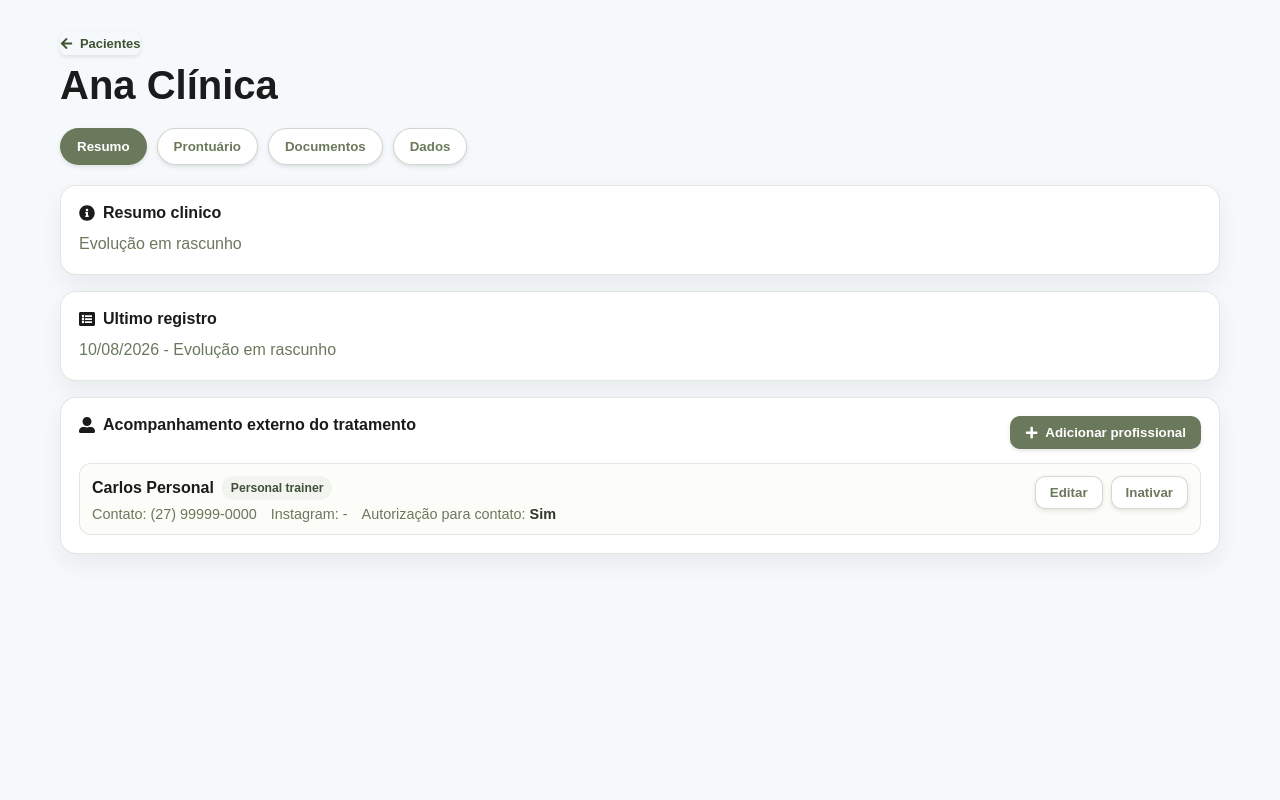
Test: PatientDetails clinical write controls permission matrix › edit + write + finalize preserves signature and addendum with eligible identity
Expected: the heading "Ana Clínica" is shown, [60,63,278,108]
Click the button "Prontuário": (207, 146) [157,128,258,165]
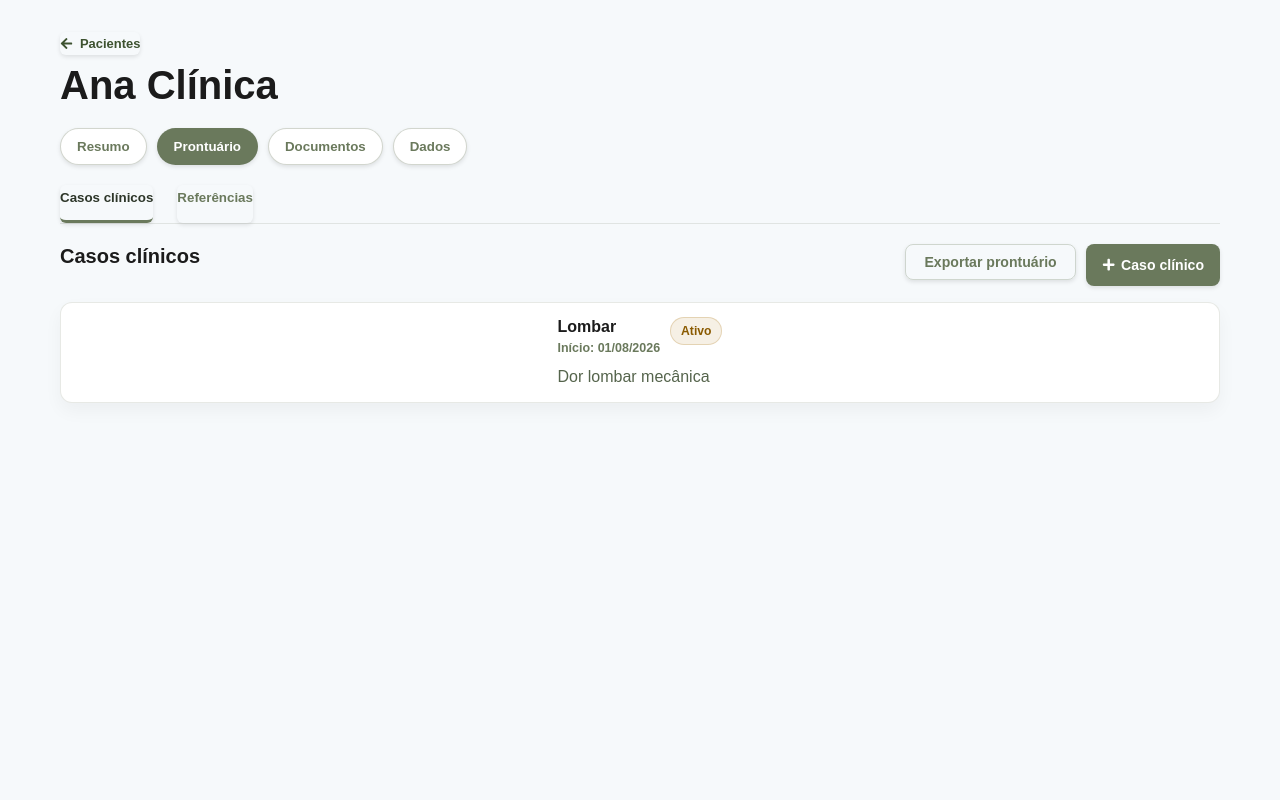
Click the button "Lombar Início: 01/08/2026 Ativo Dor lombar mecânica": (640, 353) [60,302,1220,403]
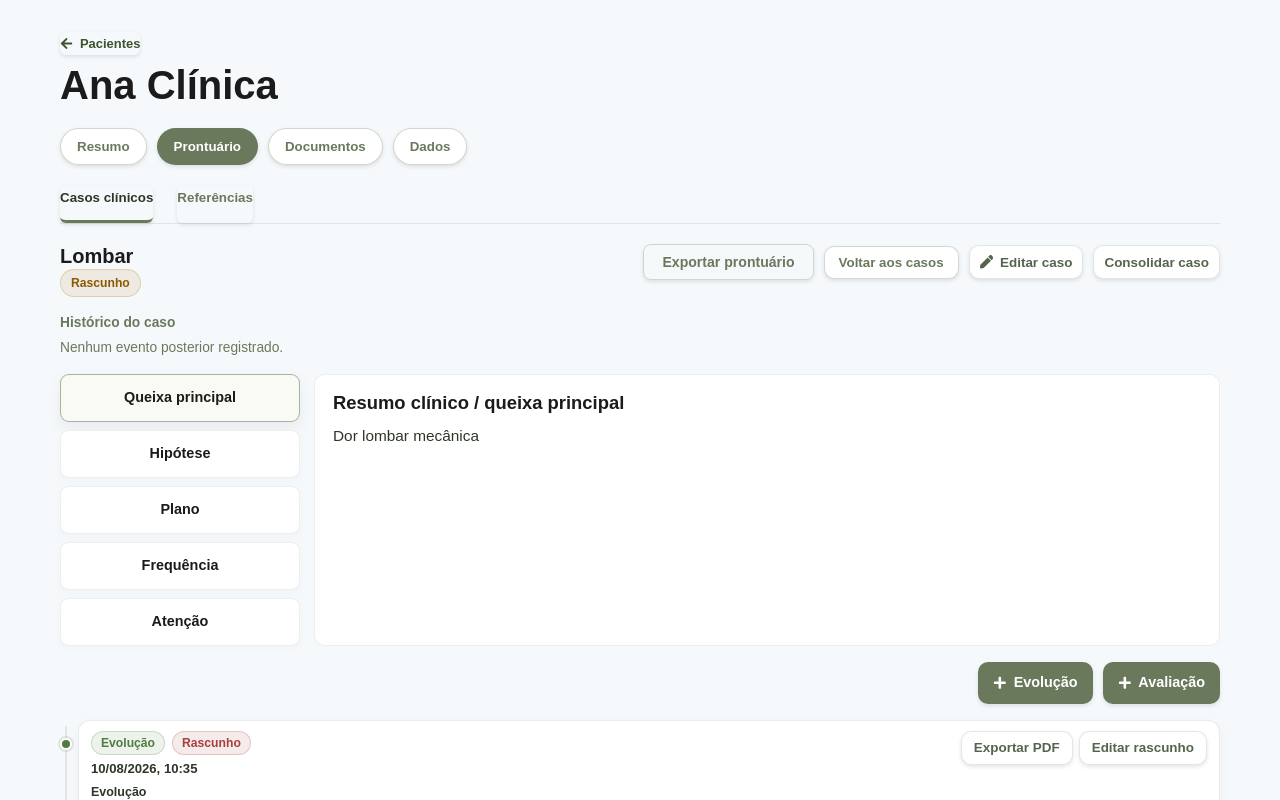
Now the text "Dor lombar mecânica" is shown, box [333,426,479,444]
Click the button "Evolução": (1035, 682) [978,662,1093,704]
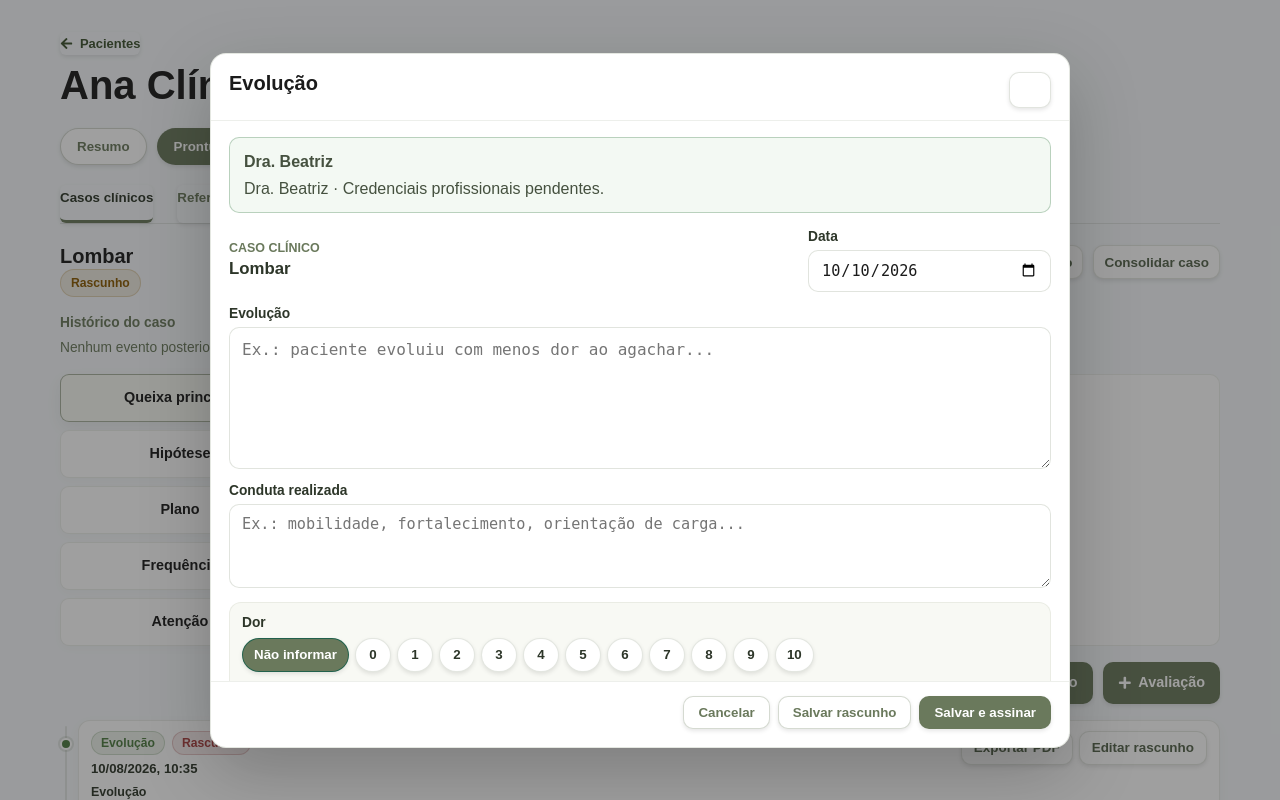
Now the button "Salvar e assinar" is enabled, box [920,696,1051,728]
Click the button named "Fechar": (1030, 90) [1009,72,1051,108]
(page scrolled)
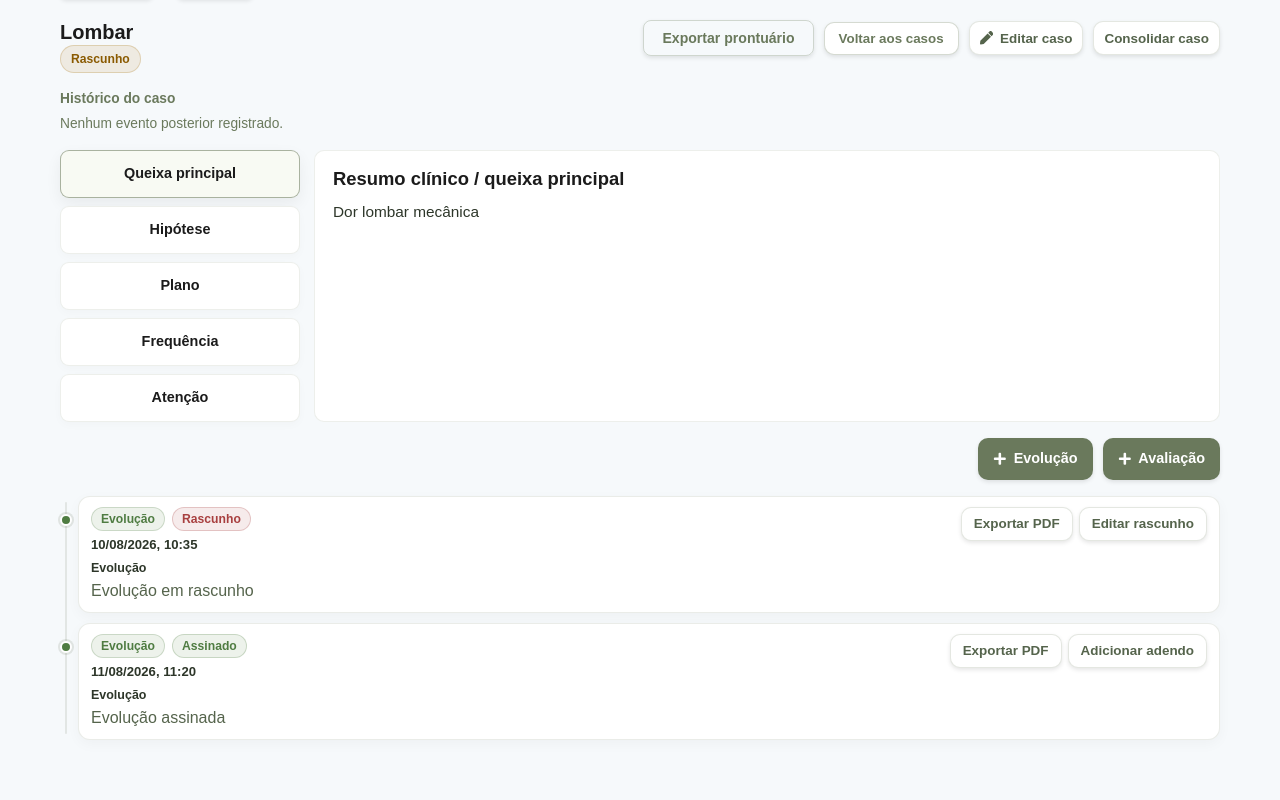
Click the button "Adicionar adendo": (1137, 651) [1068,634,1207,668]
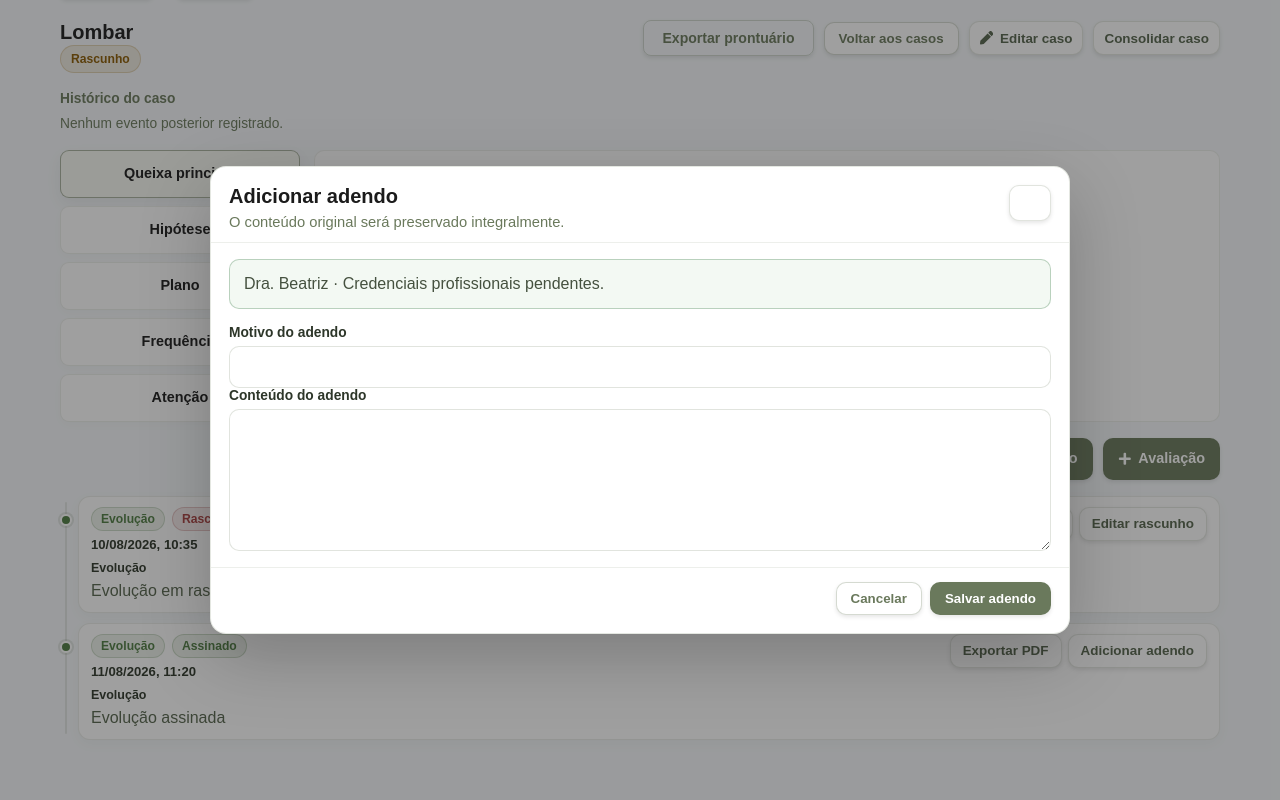
Now the button "Salvar adendo" is enabled, box [930,582,1051,615]
